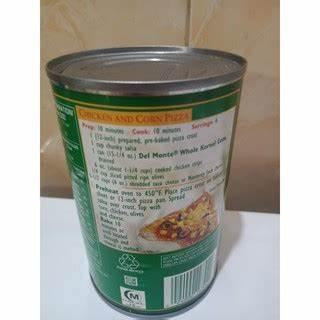metal: (46, 46, 247, 315)
